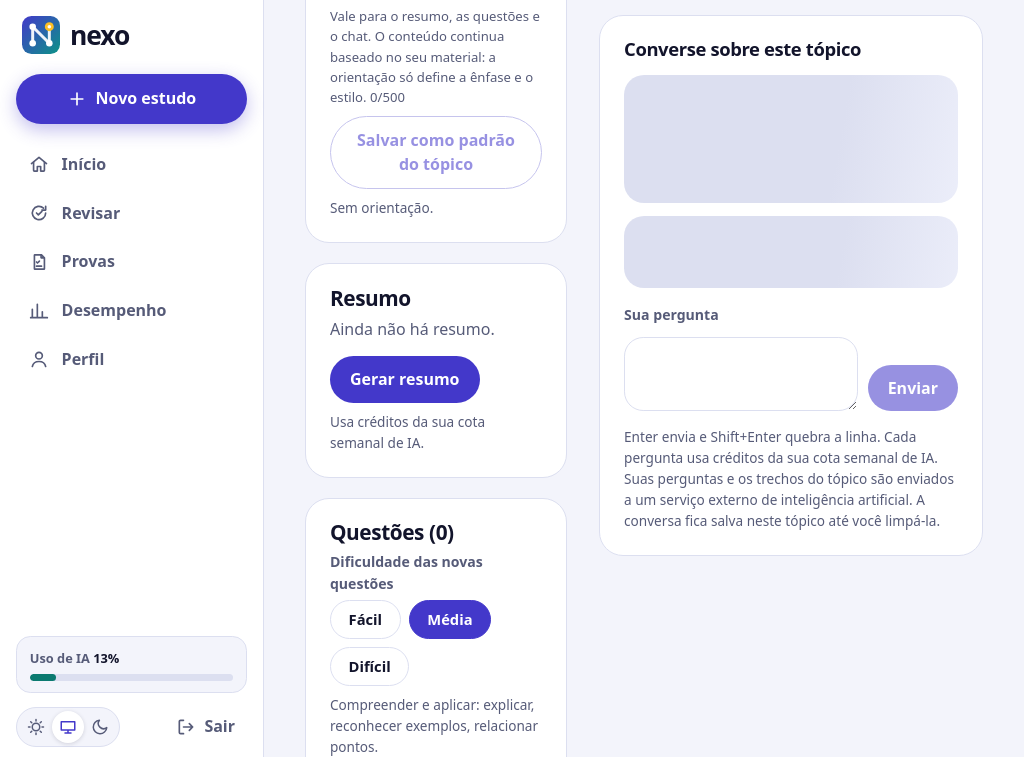
Test: gera o resumo e mostra o texto
The image size is (1024, 757).
(page scrolled)
Click the button "Gerar resumo" at (405, 379), box [330,356,480,403]
(page scrolled)
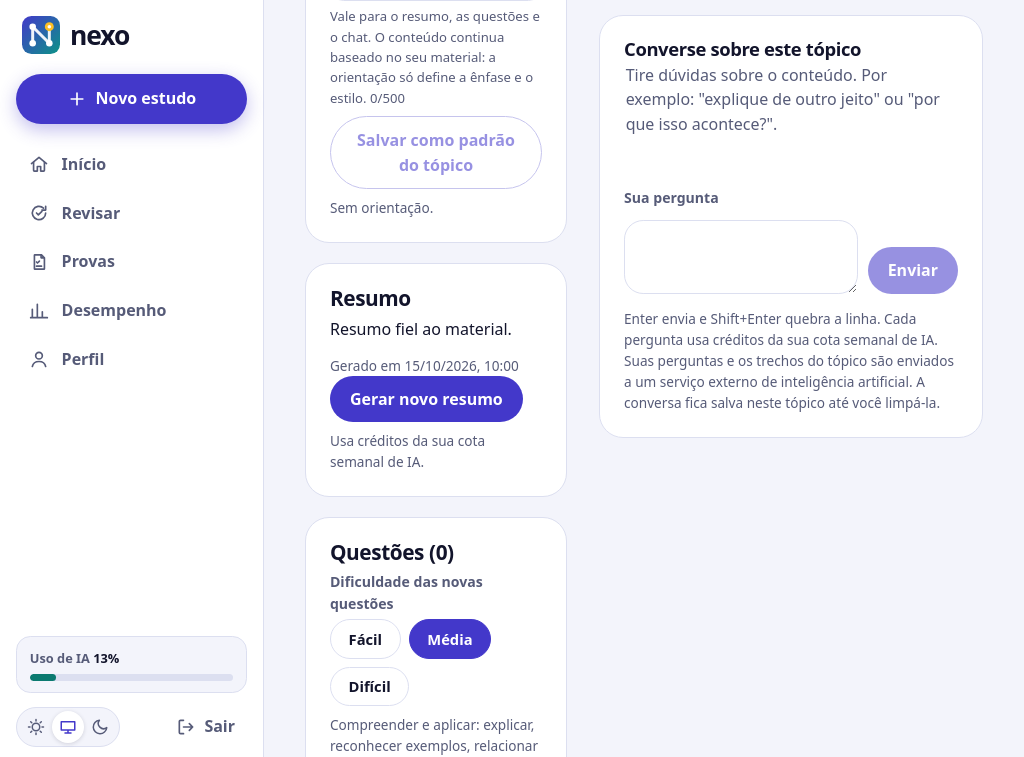
Check: the text "Resumo fiel ao material." is shown, box [330,317,542,342]
Check: the button "Gerar novo resumo" is shown, box [330,376,523,422]
